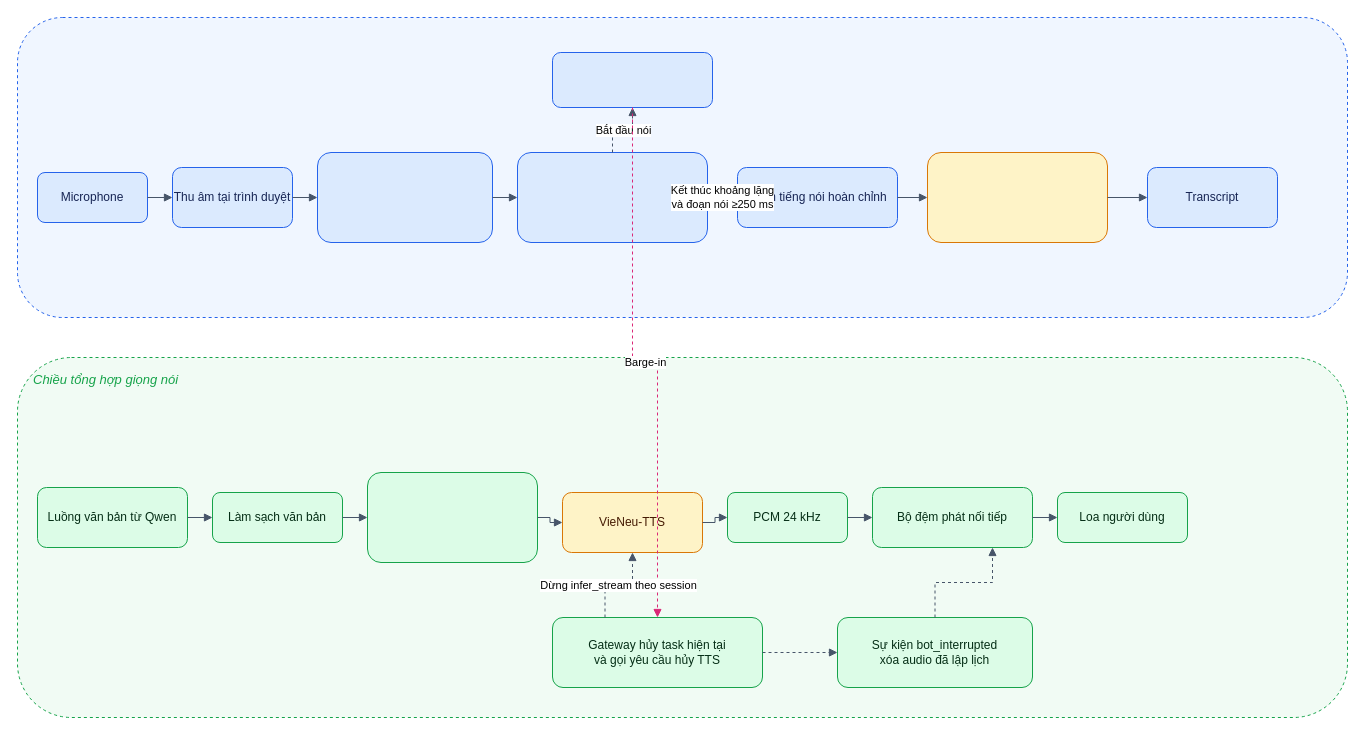
Some shapes in this 1365 by 735 pixel diagram are drawn without their labels. Each missing label, with the box of its shape:
Chia đoạn theo dấu câu và ranh giới từ: (366, 472, 538, 562)
Chiều nhận dạng giọng nói: (16, 16, 1348, 318)
PCM 16-bit, đơn kênh, 16 kHz Gửi mỗi 100 ms: (316, 152, 492, 242)
Silero VAD chạy trên CPU Window 32 ms, khoảng lặng 500 ms: (516, 152, 708, 242)
Sự kiện speech_start: (552, 52, 712, 108)
Zipformer–RNN-T Nhận dạng offline theo đoạn: (926, 152, 1108, 242)
